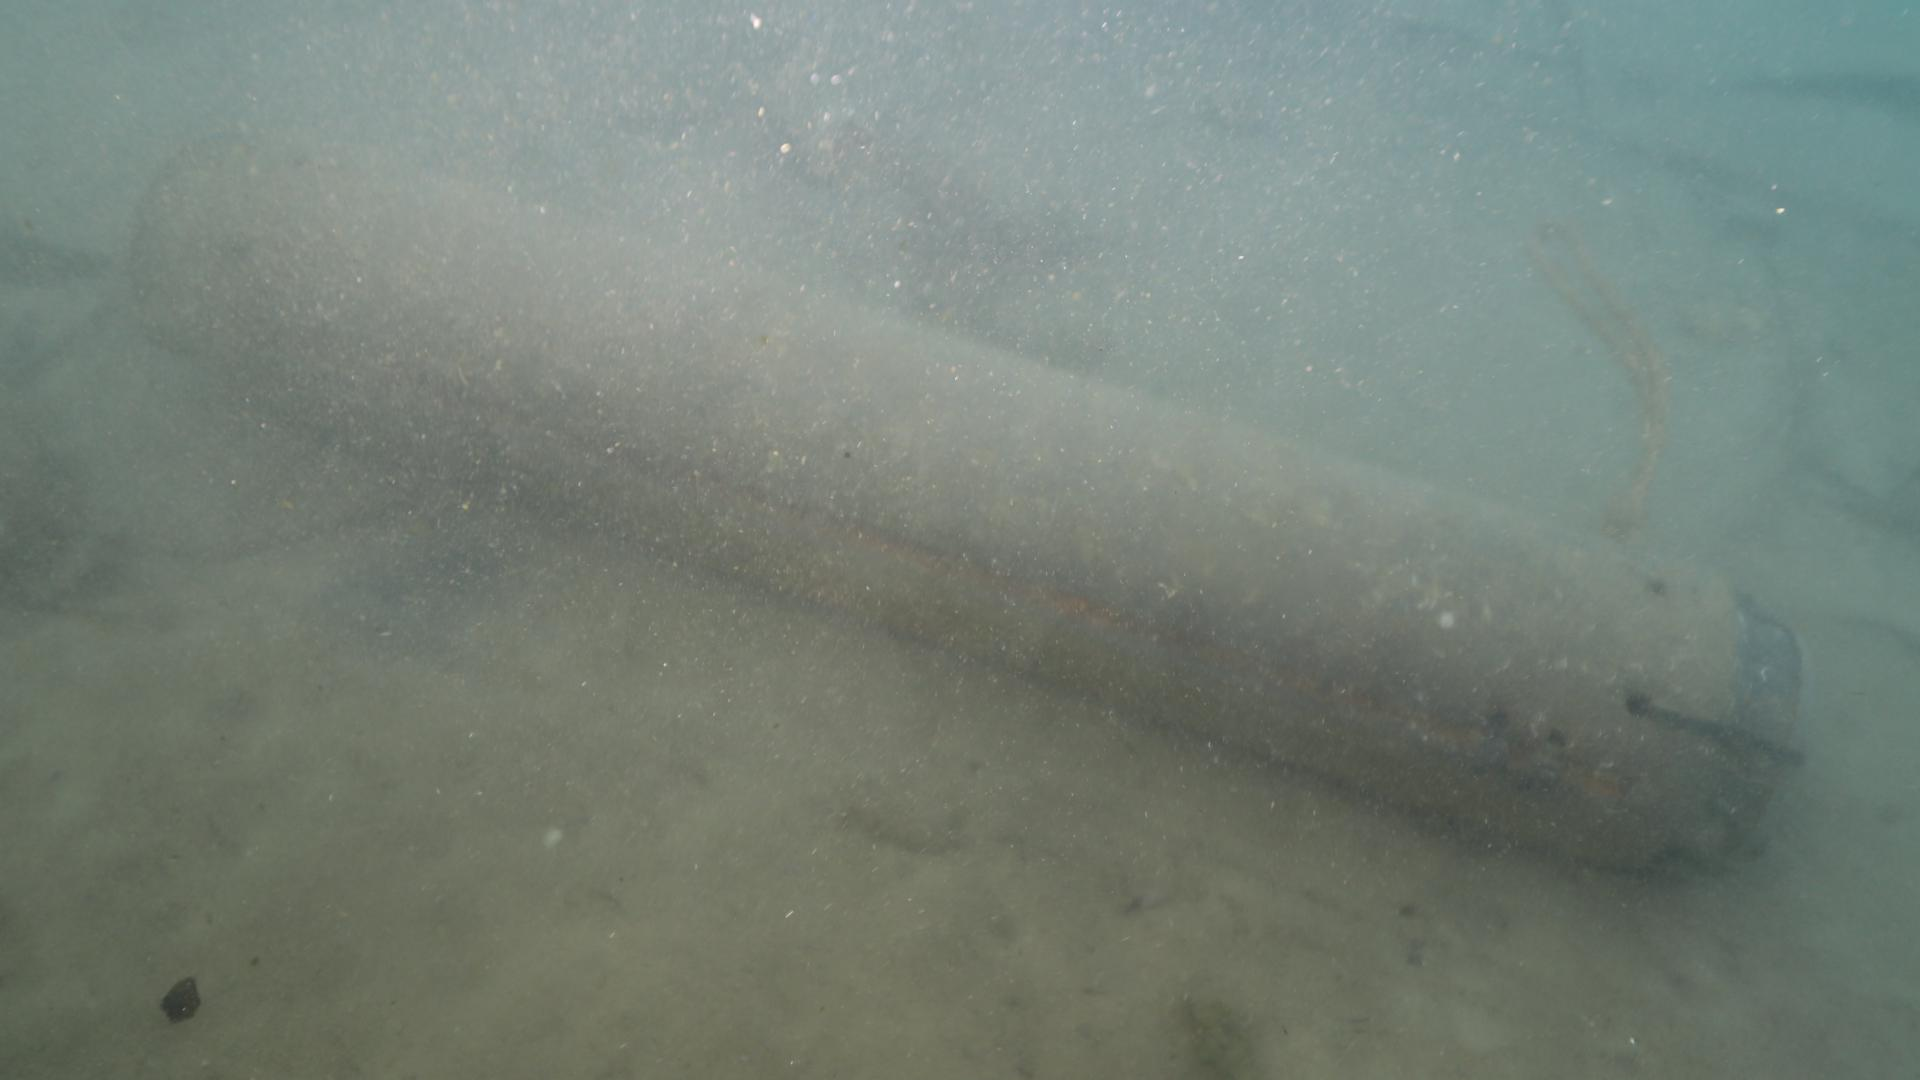bundle of ropes: (1526, 218, 1665, 538)
eel fish trap: (119, 136, 1813, 890)
